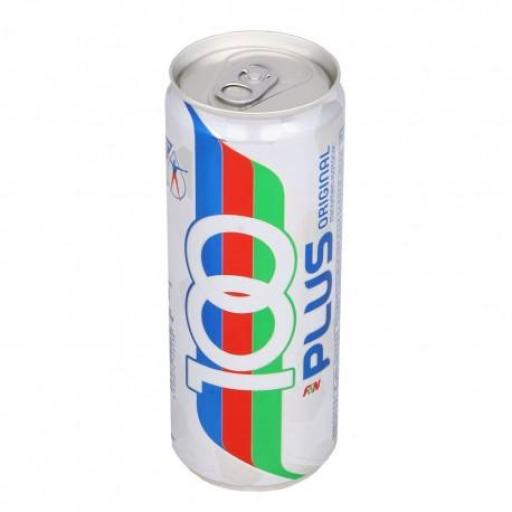can: (160, 28, 348, 489)
pop tab: (214, 58, 280, 109)
